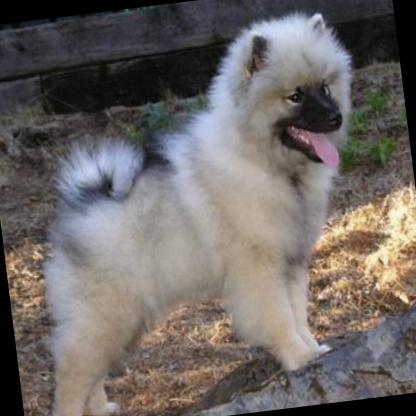keeshond: (0, 3, 392, 416)
